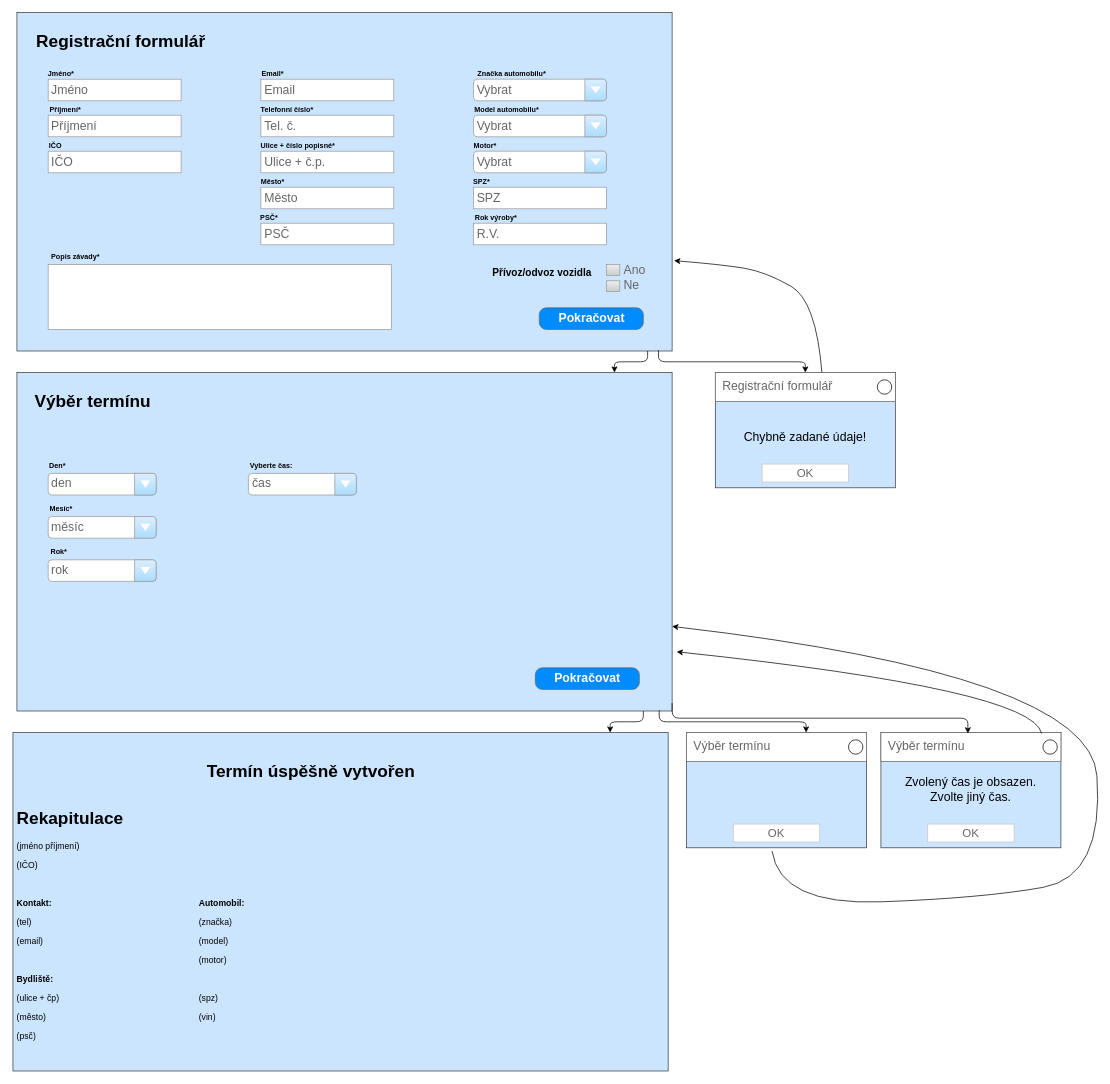
The diagram is 1110 pixels wide and 1084 high, and some of its shapes have lost their labels. The shapes that lost their labels are listed below. From the top down, each one's centre as x and y in pixels, then its label:
At (219,296): "Popis závady".
At (776,790): "Zvolený termín je obsazen. Zvolte jiný termín.".
